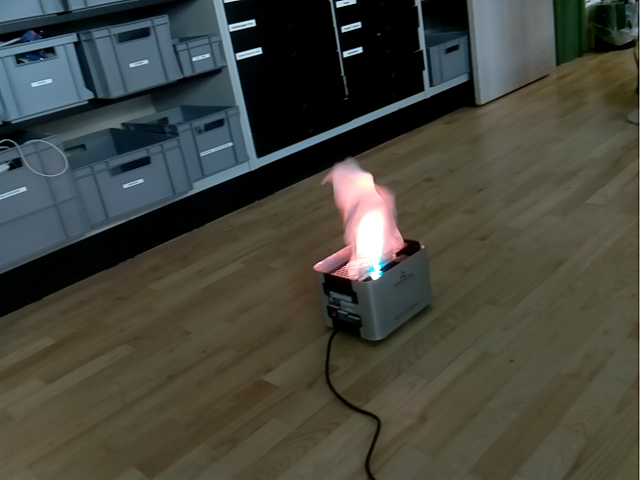fire: (321, 157, 406, 280)
